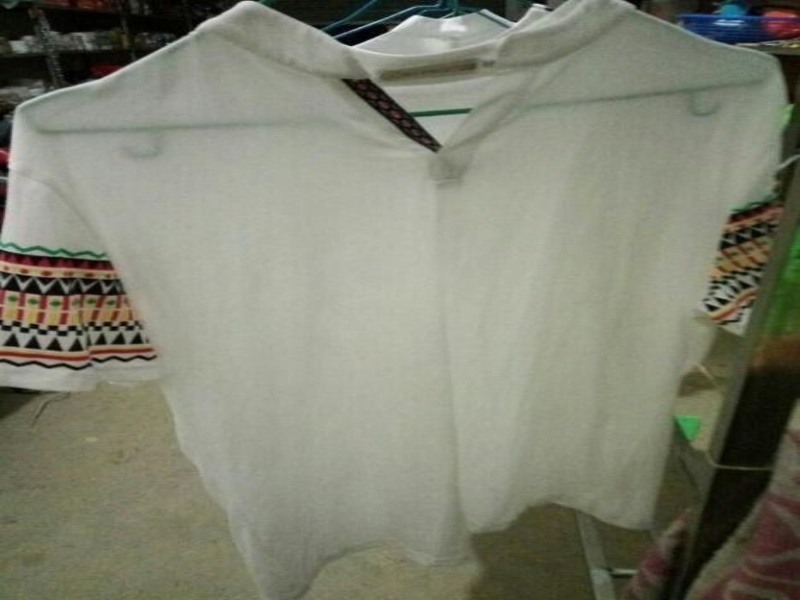short_sleeved_shirt: (0, 0, 797, 599)
